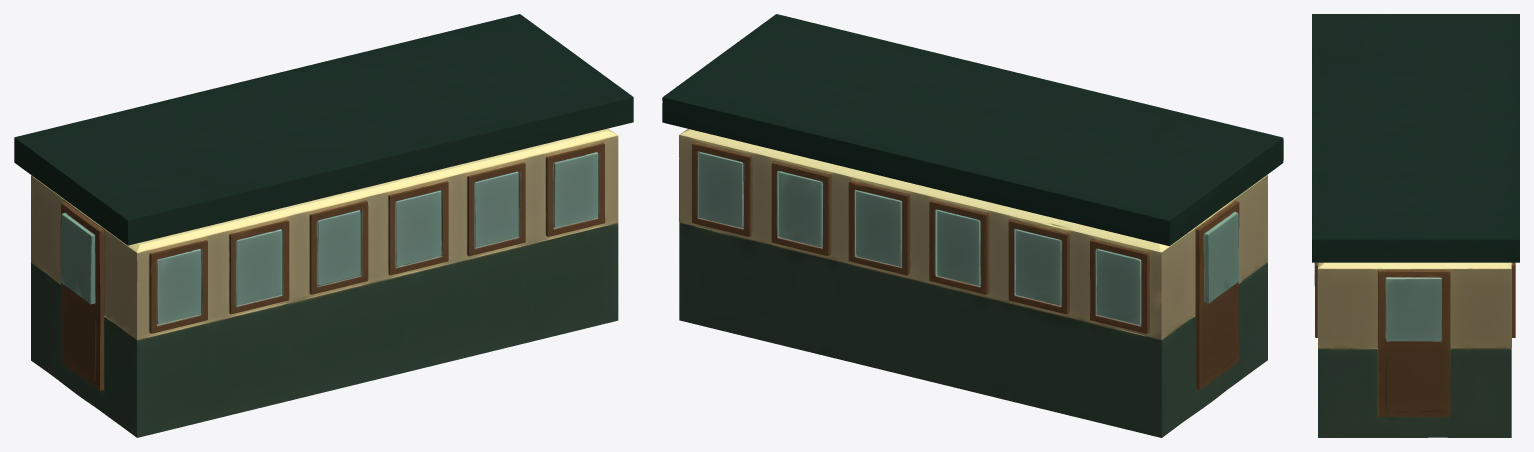
Rendered from source.glb.
3 views of the same model, side by side, from view 1: azimuth 30°, elevation 25°; view 2: azimuth 150°, elevation 25°; view 3: azimuth 270°, elevation 25° (orthographic). The views are drawn at different scales.
Visible parts, largest first — view 1: model; view 2: model; view 3: model.
Part boxes in pixels (x1,y1,x2,y2): model: (14,14,633,437); model: (662,14,1283,437); model: (1312,14,1519,437).
Size of the model in its own units: 1.9 by 0.8013 by 0.741.
Materials: 1 (1 with a texture image).
